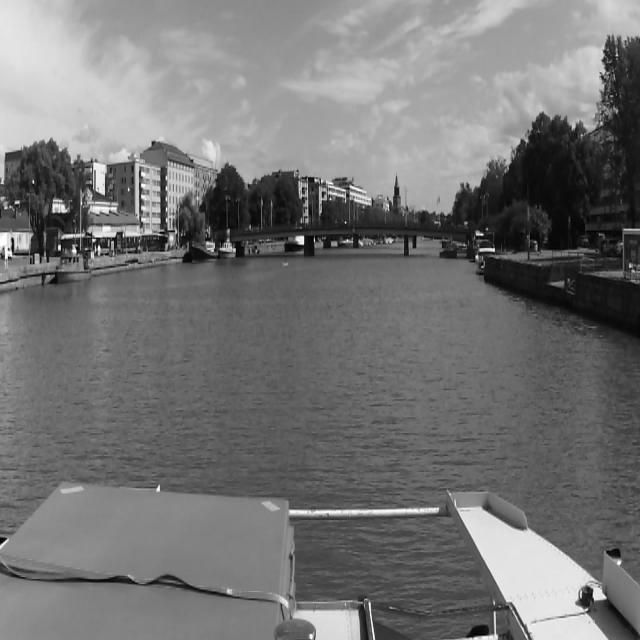ship: (54, 244, 91, 286), (192, 236, 218, 265), (219, 242, 237, 258), (281, 258, 288, 268)
